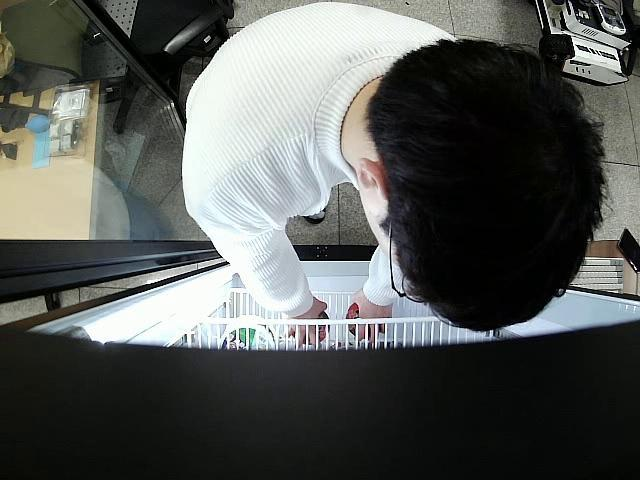02_shinRamen_S: (293, 311, 330, 346), (346, 303, 383, 338)
